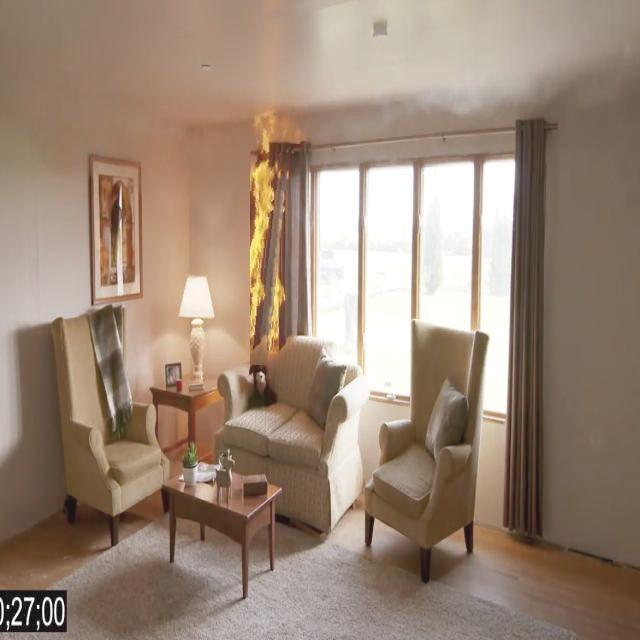fire: (250, 98, 294, 366)
smoke: (388, 54, 640, 117)
